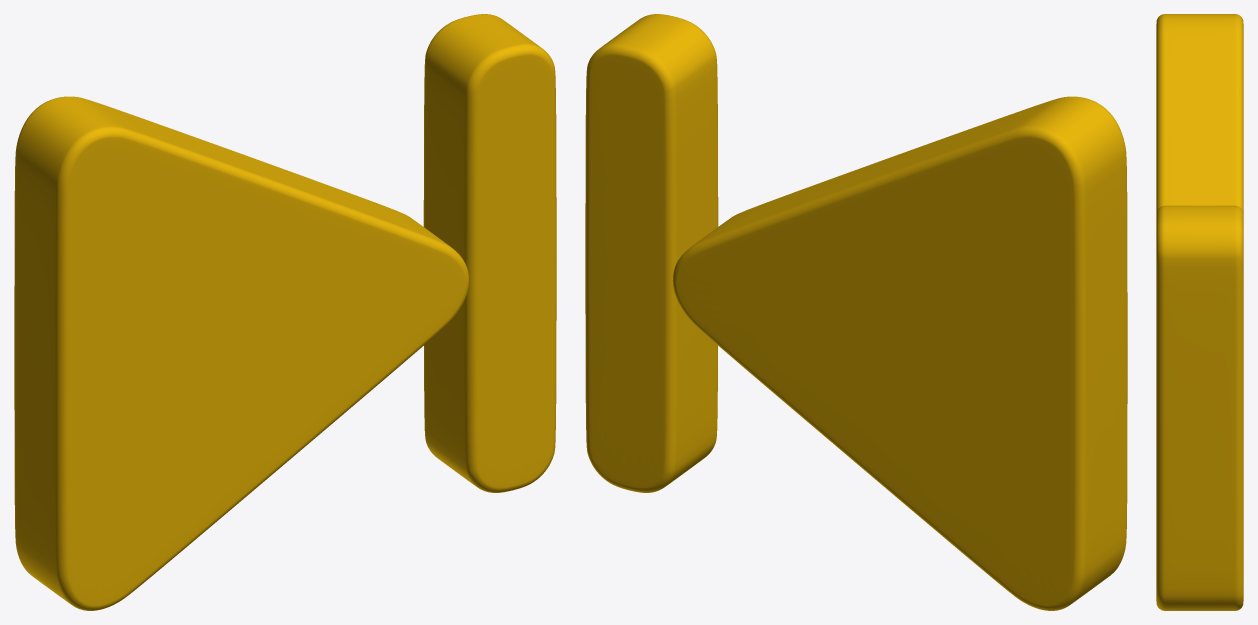
Rendered from next.glb.
3 views of the same model, side by side, from view 1: azimuth 30°, elevation 25°; view 2: azimuth 150°, elevation 25°; view 3: azimuth 270°, elevation 25° (orthographic). The views are drawn at different scales.
Visible parts, largest first — view 1: Next; view 2: Next; view 3: Next.
Boxes of the visible parts, x1=… form: Next: x1=14, y1=14, x2=556, y2=610; Next: x1=585, y1=14, x2=1127, y2=610; Next: x1=1156, y1=14, x2=1243, y2=610.
Bounding box in the file's own units: 1.75 × 1.61 × 0.3.
